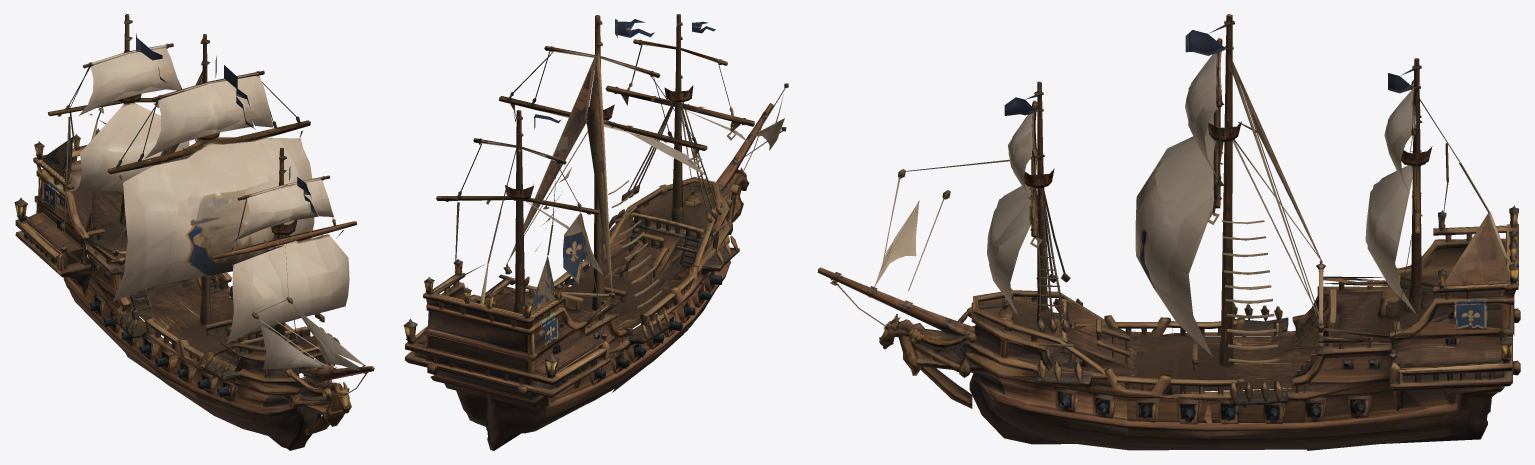
Rendered from prop_galleon_a.glb.
3 renders of one model, left to right at view 1: azimuth 30°, elevation 25°; view 2: azimuth 150°, elevation 25°; view 3: azimuth 270°, elevation 25°, orthographic. The views are drawn at different scales.
Visible parts, largest first — view 1: prop_galleon_a_LOD0_surface, prop_galleon_a_LOD1_surface; view 2: prop_galleon_a_LOD0_surface, prop_galleon_a_LOD1_surface; view 3: prop_galleon_a_LOD0_surface, prop_galleon_a_LOD1_surface.
Boxes of the visible parts, bbox=[...] form: prop_galleon_a_LOD0_surface: bbox=[14, 14, 374, 449]; prop_galleon_a_LOD1_surface: bbox=[15, 14, 374, 450]; prop_galleon_a_LOD0_surface: bbox=[403, 14, 788, 450]; prop_galleon_a_LOD1_surface: bbox=[404, 15, 784, 449]; prop_galleon_a_LOD0_surface: bbox=[818, 14, 1520, 450]; prop_galleon_a_LOD1_surface: bbox=[817, 14, 1518, 450].
Size of the model in its own units: 8.93 by 14.8 by 22.02.
Materials: 1 (1 with a texture image).
